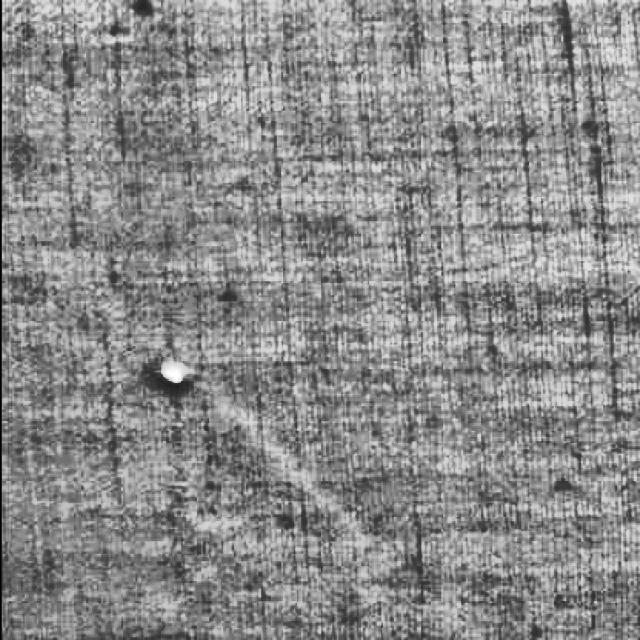hole: (148, 353, 198, 395)
